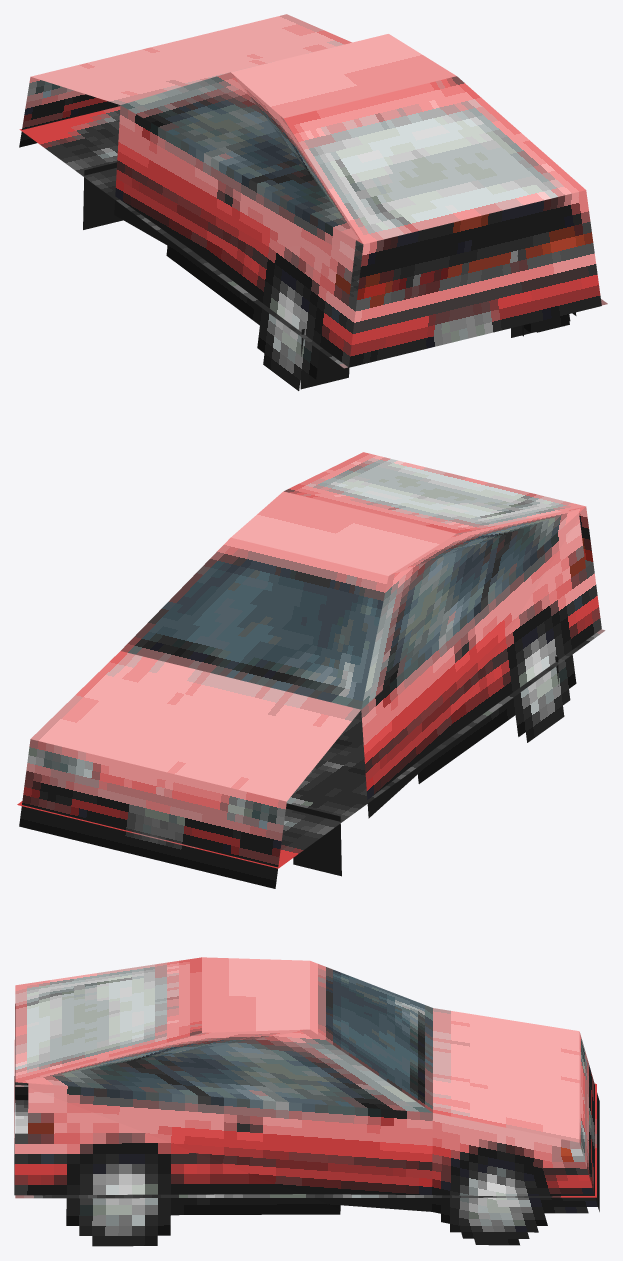
File: car-crx-plt1.glb
3 views of the same model, one above another, from view 1: azimuth 30°, elevation 25°; view 2: azimuth 150°, elevation 25°; view 3: azimuth 270°, elevation 25° (orthographic). The views are drawn at different scales.
Parts seen in each view (by area): view 1: car-crx-plt1; view 2: car-crx-plt1; view 3: car-crx-plt1.
Boxes of the visible parts, bbox=[...] form: car-crx-plt1: bbox=[19, 14, 607, 390]; car-crx-plt1: bbox=[17, 452, 605, 888]; car-crx-plt1: bbox=[14, 957, 599, 1246].
Bounding box in the file's own units: 1.61 × 1.26 × 3.48.
13 materials, 13 textured.
